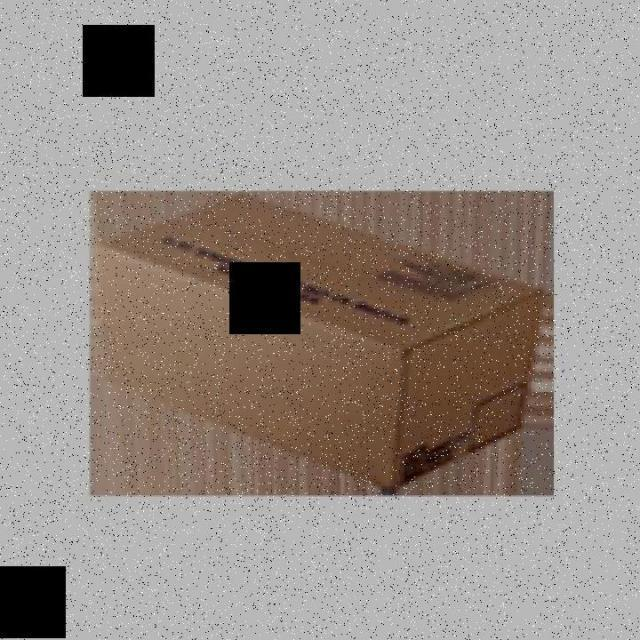box: (71, 175, 557, 525)
